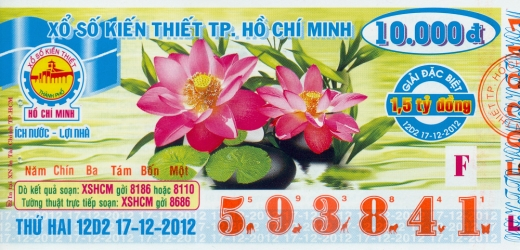serial_zone: (210, 190, 503, 243)
